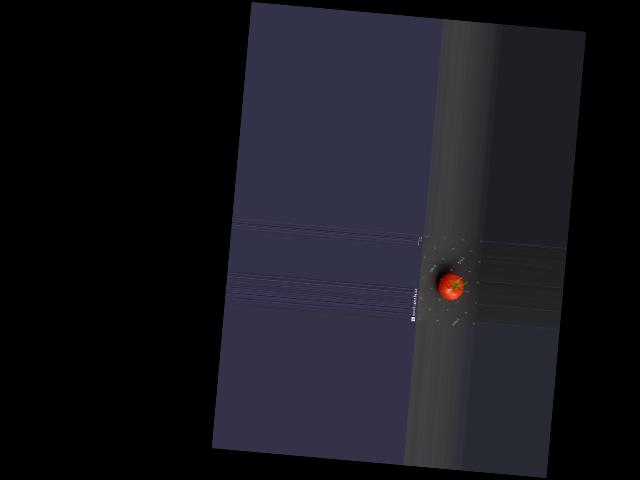tomato: (438, 271, 464, 300)
